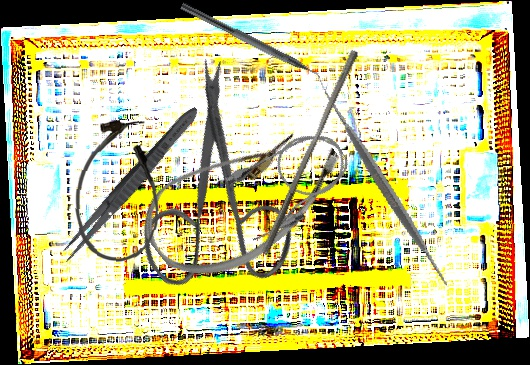Cannula: (128, 90, 357, 304), (217, 118, 363, 248), (71, 116, 165, 265)
Chopper: (175, 2, 331, 91)
Dressing Forceps: (56, 102, 204, 267)
Iris Scissors: (69, 50, 348, 331)
Pusher: (260, 46, 360, 260)
Spatula Surgical: (275, 77, 497, 298)
